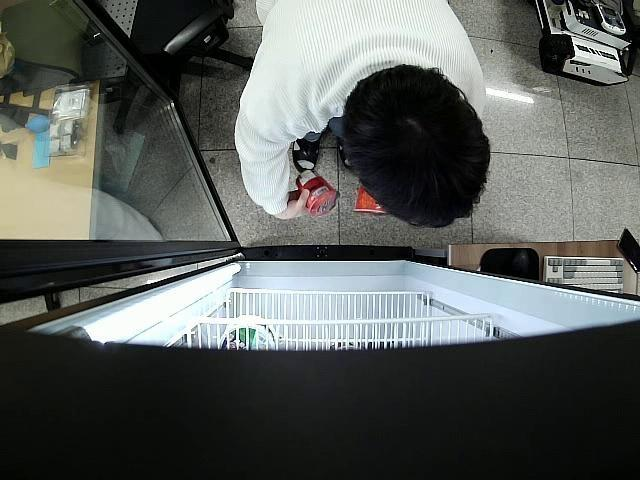02_shinRamen_S: (296, 170, 342, 220)
